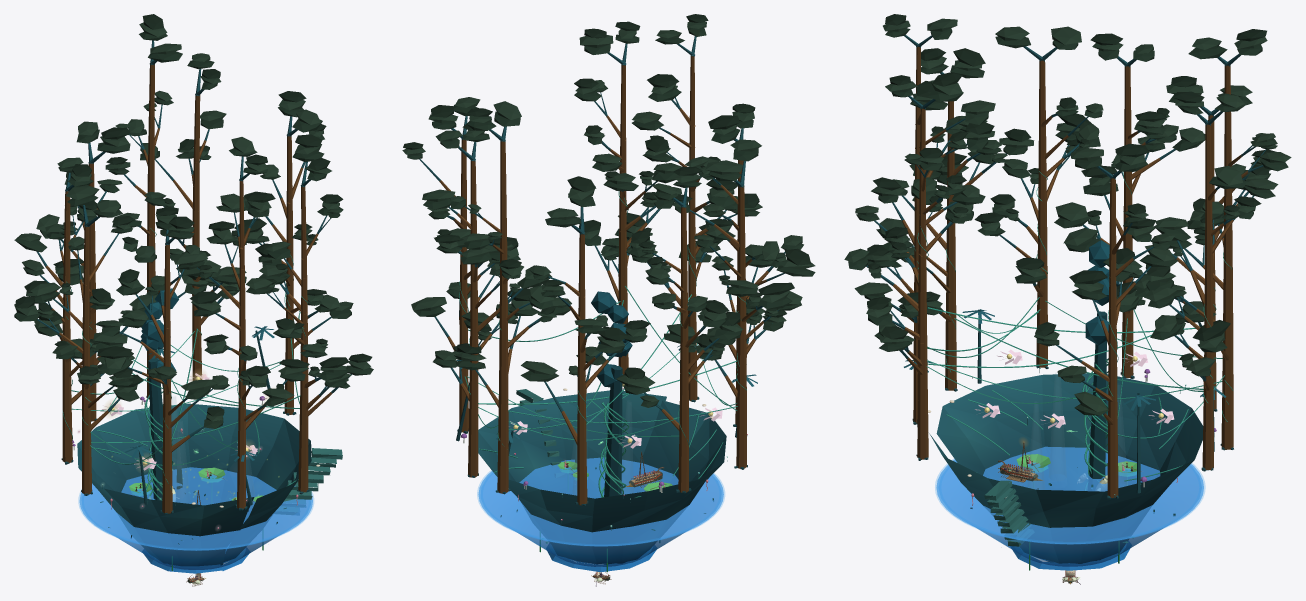
File: swampZone.glb
3 views of the same model, side by side, from view 1: azimuth 30°, elevation 25°; view 2: azimuth 150°, elevation 25°; view 3: azimuth 270°, elevation 25° (orthographic). The views are drawn at different scales.
Visible parts, largest first — view 1: swamp-sinkhole-wall, swamp-underground-waterline, swamp-water-volume, world-tree-trunk, n2255, swamp-lake-floor, n1663, n20, n394, n684, n221, n22; view 2: swamp-sinkhole-wall, swamp-underground-waterline, swamp-water-volume, world-tree-trunk, n2255, swamp-lake-floor, n968, n970, n1663, n1095, n972; view 3: swamp-sinkhole-wall, swamp-underground-waterline, swamp-water-volume, world-tree-trunk, n2255, swamp-lake-floor, n1663, n1662, n968, n20, n1095, n972 (+5 smaller).
Boxes of the visible parts, x1,y1,x2,y2 form: swamp-sinkhole-wall: [77, 403, 311, 565]; swamp-underground-waterline: [79, 467, 312, 550]; swamp-water-volume: [84, 485, 307, 569]; world-tree-trunk: [148, 358, 162, 500]; n2255: [78, 491, 313, 550]; swamp-lake-floor: [142, 544, 249, 573]; n1663: [177, 422, 189, 502]; n20: [298, 440, 308, 492]; n394: [162, 467, 172, 513]; n684: [62, 416, 72, 462]; n221: [237, 453, 245, 508]; n22: [299, 389, 308, 441]; swamp-sinkhole-wall: [478, 390, 726, 564]; swamp-underground-waterline: [478, 457, 723, 546]; swamp-water-volume: [483, 474, 718, 566]; world-tree-trunk: [604, 365, 622, 497]; n2255: [477, 470, 724, 546]; swamp-lake-floor: [546, 543, 656, 572]; n968: [497, 433, 508, 493]; n970: [498, 375, 508, 434]; n1663: [622, 403, 633, 492]; n1095: [468, 423, 478, 477]; n972: [499, 316, 508, 376]; swamp-sinkhole-wall: [929, 373, 1203, 563]; swamp-underground-waterline: [936, 446, 1203, 544]; swamp-water-volume: [942, 467, 1198, 566]; world-tree-trunk: [1088, 311, 1107, 490]; n2255: [935, 459, 1205, 544]; swamp-lake-floor: [1010, 541, 1131, 570]; n1663: [1049, 374, 1065, 475]; n1662: [1028, 404, 1044, 489]; n968: [1221, 383, 1233, 449]; n20: [917, 400, 928, 459]; n1095: [1202, 410, 1213, 469]; n972: [1223, 256, 1233, 320].
Bounding box in the file's own units: 115 × 156 × 110.
Materials: 455 (95 with a texture image).
